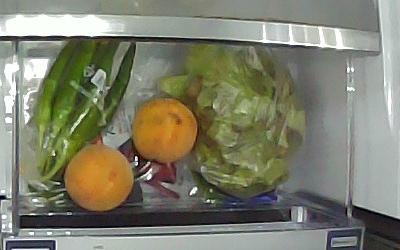peach: (61, 144, 134, 212), (133, 98, 198, 165)
